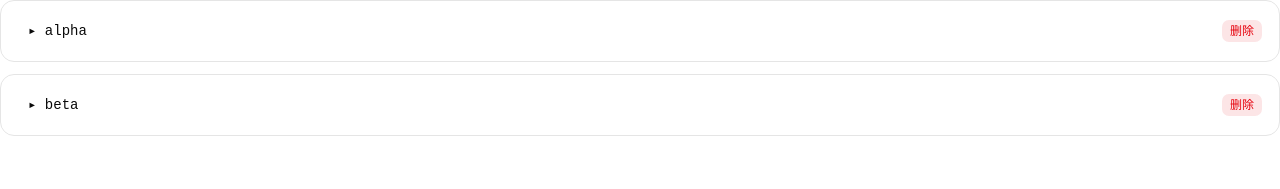
Test: ListEditor › collapses and expands an item
This screenshot has width=1280, height=189.
expect the text "内容 alpha" is not shown: met
What coordinates should you click on to do the following:
click the button with aria-label "展开 alpha"
I would click on:
 (57, 31)
Its box is [17,17,98,45].
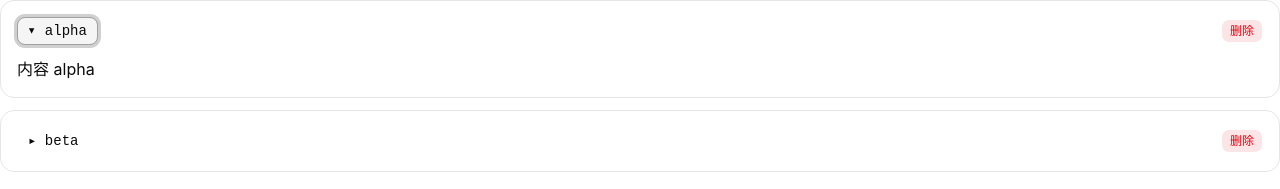
expect the text "内容 alpha" is shown: met, box [17,59,95,79]
What coordinates should you click on to do the following:
click the button with aria-label "折叠 alpha"
I would click on:
 (57, 31)
Its box is [17,17,98,45].
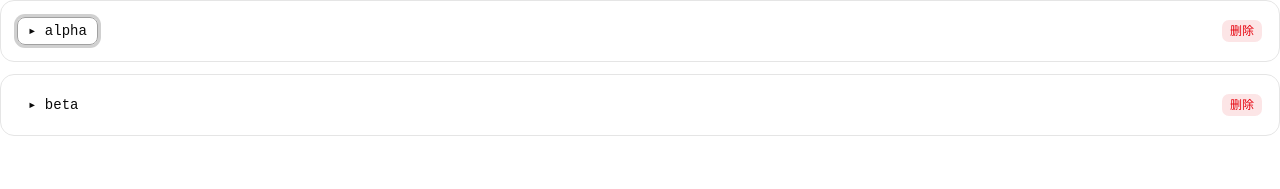
expect the text "内容 alpha" is gone: met
